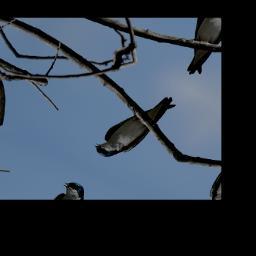Swallow: (90, 82, 179, 168)
